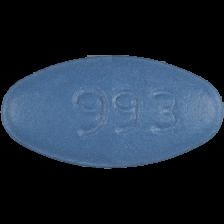68788-9360: (0, 0, 224, 224)
